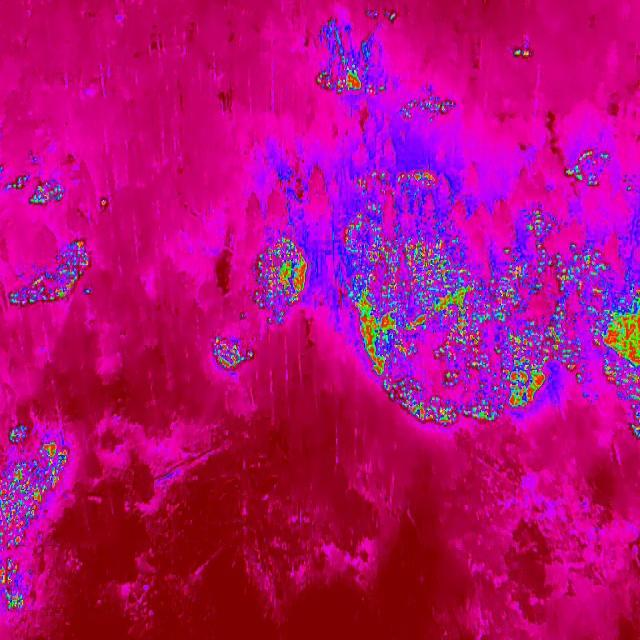fire: (343, 166, 588, 437), (0, 420, 69, 614), (588, 251, 640, 441), (6, 237, 94, 307), (254, 234, 314, 324), (314, 57, 384, 103), (396, 87, 464, 132), (2, 168, 72, 206), (559, 142, 611, 190), (208, 336, 254, 373), (504, 41, 536, 65), (370, 4, 402, 26)
